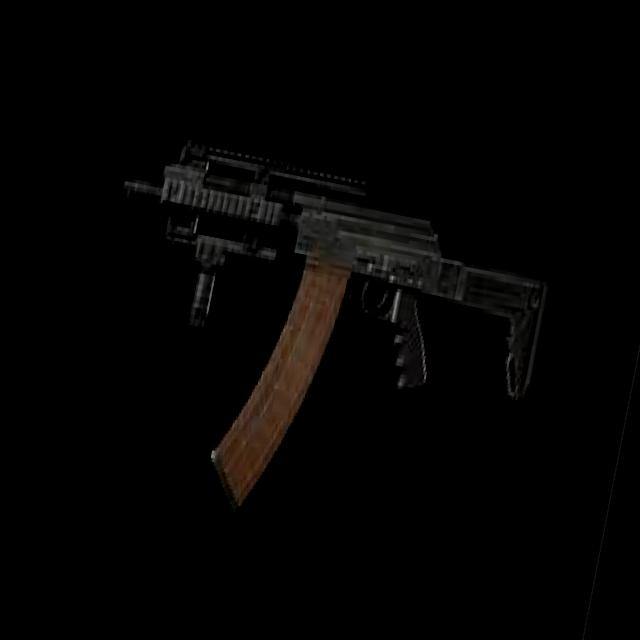long weapon: (118, 96, 565, 514)
